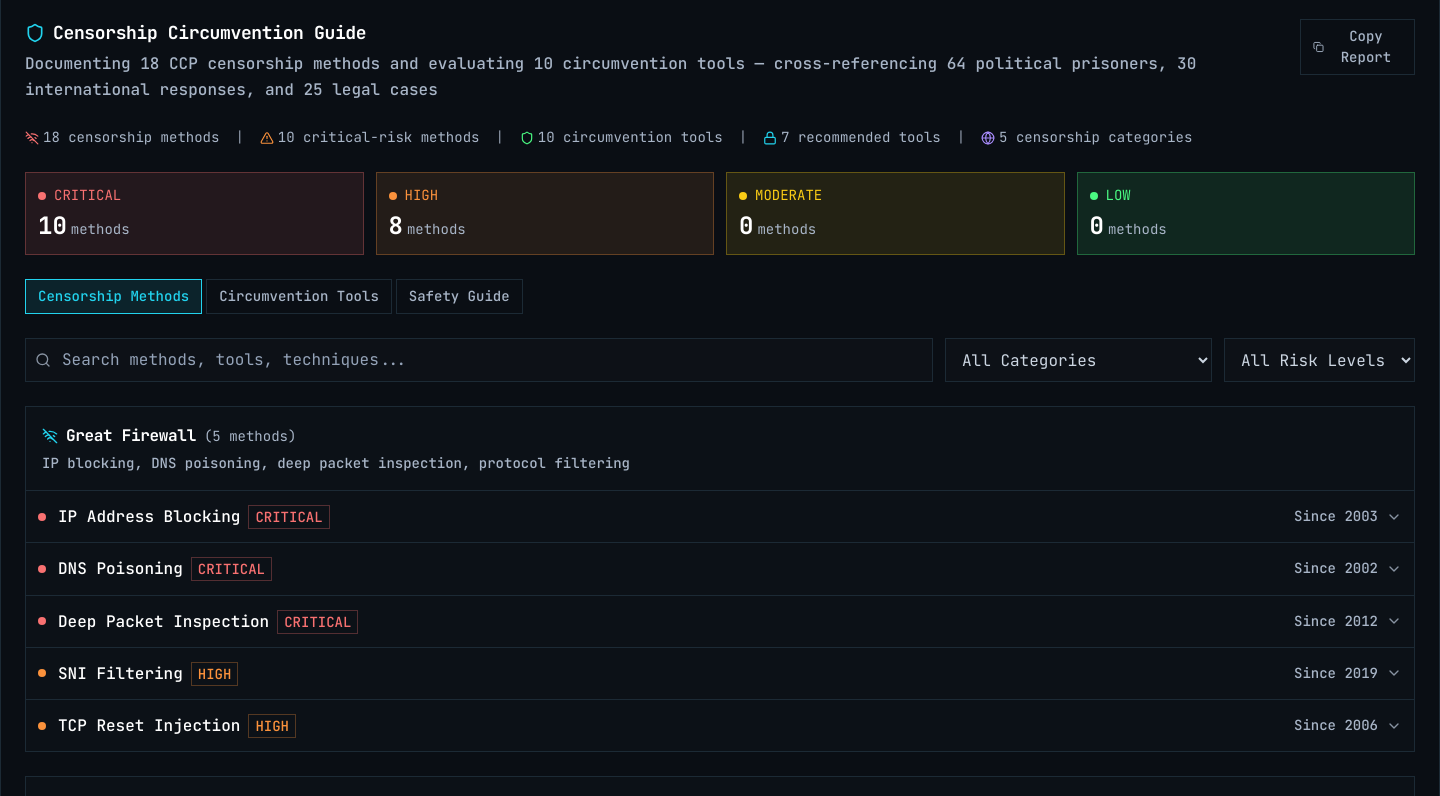
Test: CensorshipCircumventionGuide › safety view shows safety sections
Click the button "Safety Guide": (459, 297) [396,279,523,314]
(page scrolled)
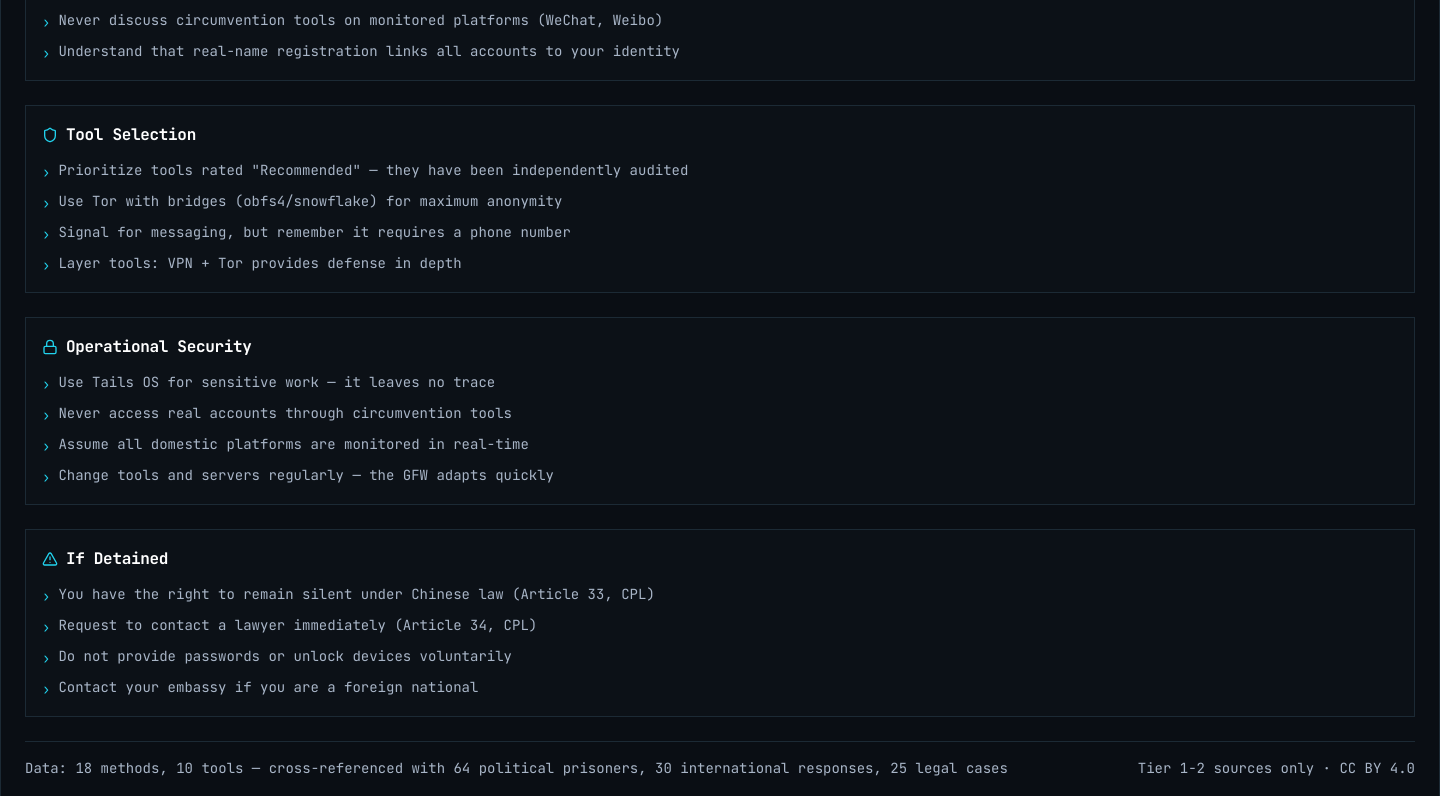
Expected: the heading "Tool Selection" is shown, [42,124,196,145]
Expected: the heading "Operational Security" is shown, [42,336,252,357]
Expected: the heading "If Detained" is shown, [42,548,168,569]
